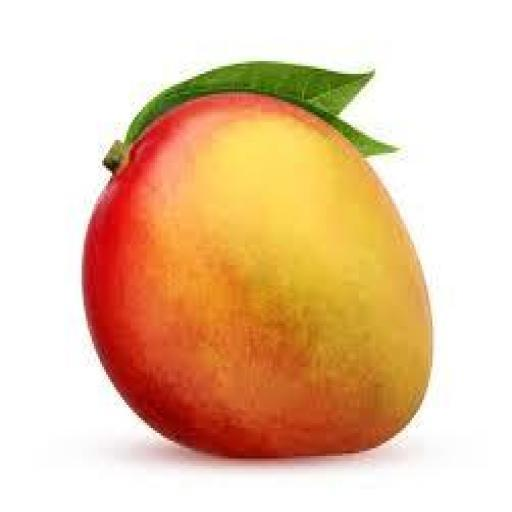mango: (84, 87, 434, 458)
